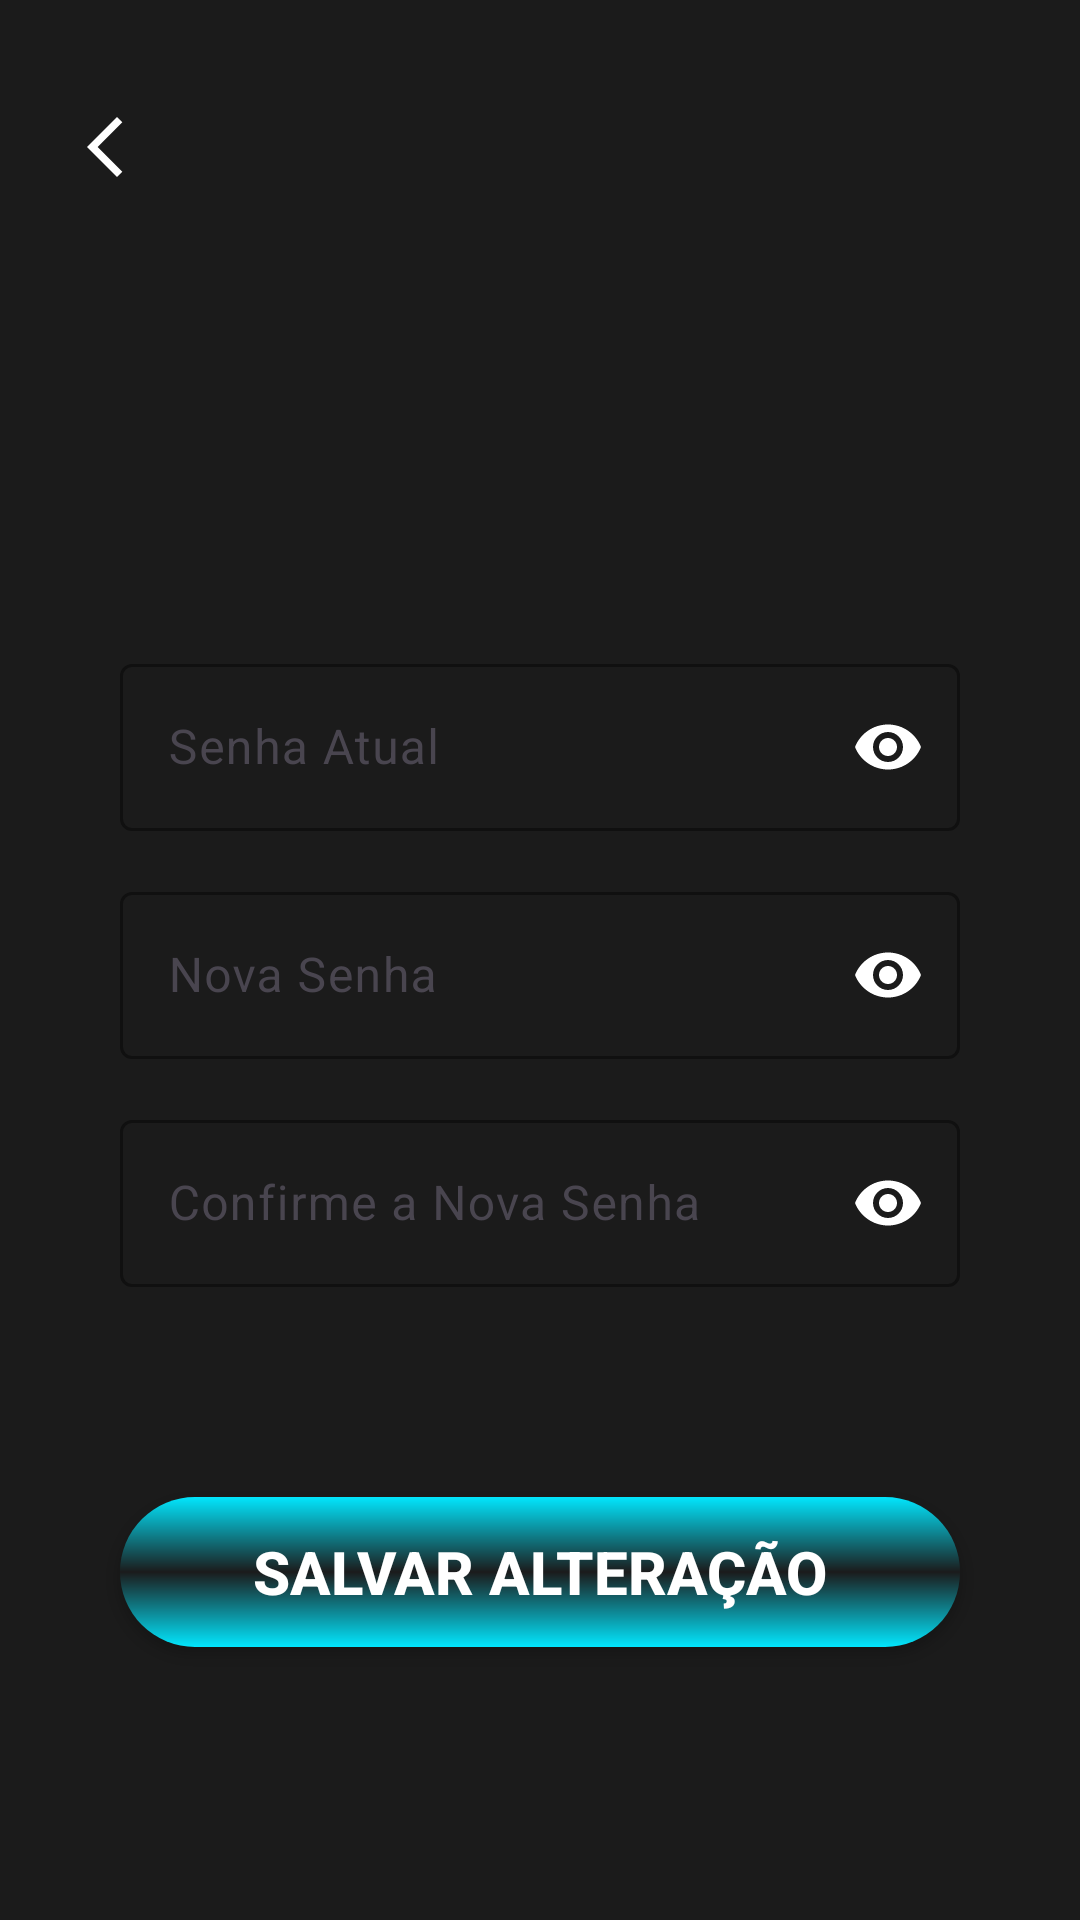

Screen size 1080×1920. Icon name, then its center in pixels as [x,y]:
to back: [104,147]
